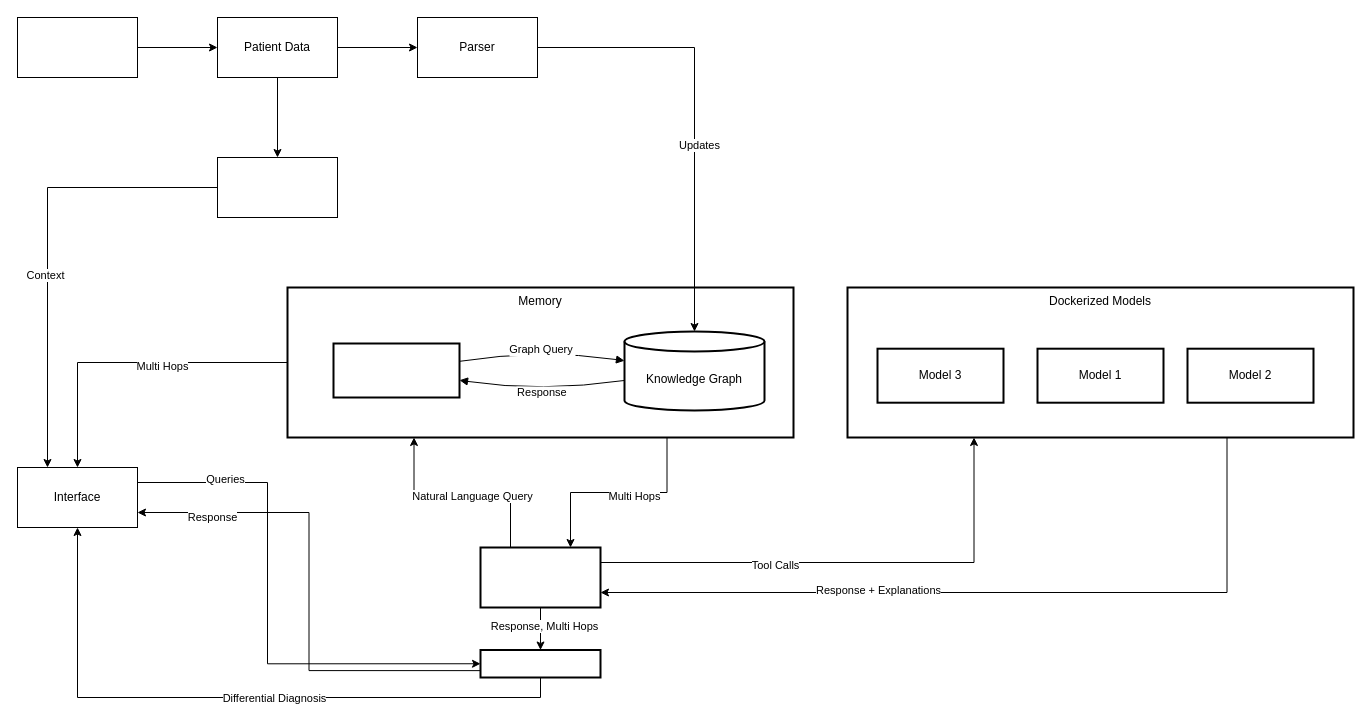
Image size: 1372x723. Some labels were removed from this diagram. The centre of each missing label's shape, as x and y in pixels:
Appointment Details: point 277,187
MedGemma: point 540,663
Patient: point 77,47
Retriever: point 396,370
SLM: point 540,577
